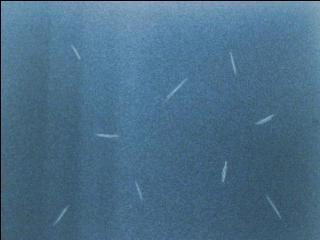scratch: (164, 74, 190, 104), (259, 189, 282, 221), (128, 178, 150, 204), (213, 157, 230, 188), (92, 127, 123, 143), (50, 204, 71, 227), (66, 40, 86, 62), (250, 113, 275, 129), (228, 49, 240, 80)
